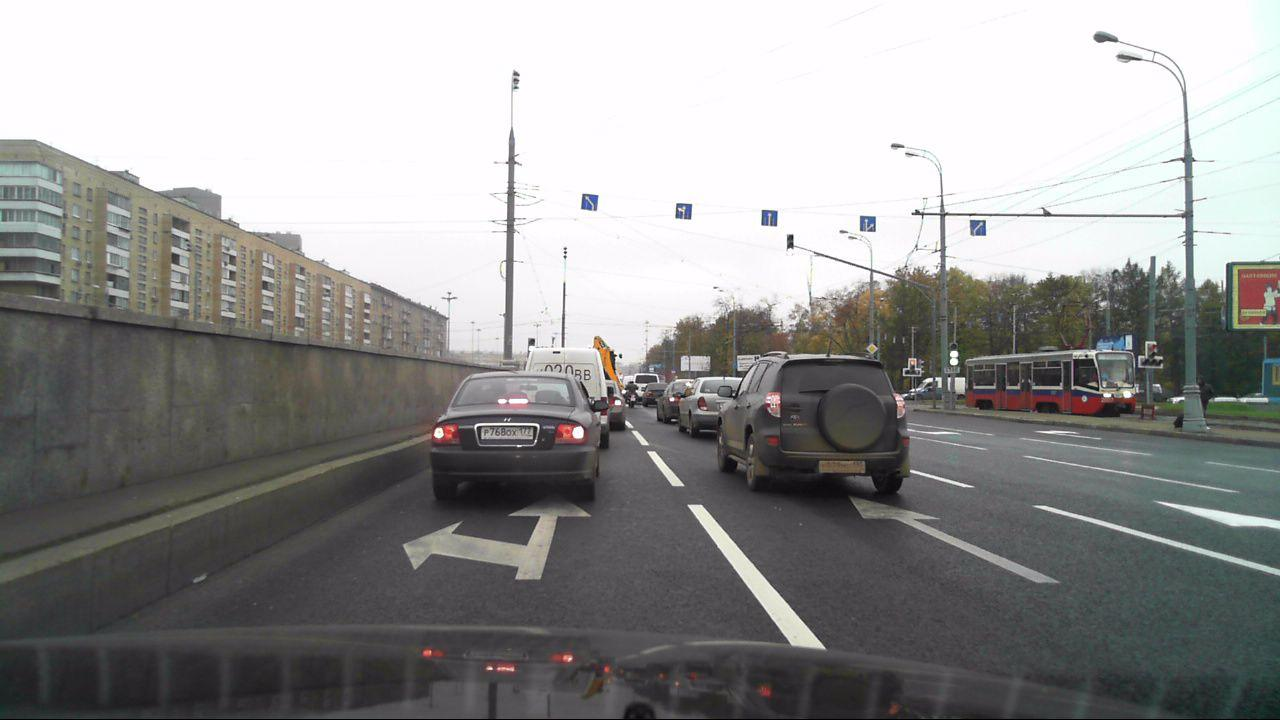2_1: (865, 344, 878, 356)
5_15_2: (761, 209, 781, 227), (675, 202, 692, 220), (860, 215, 876, 233), (582, 192, 598, 210), (969, 220, 985, 236)
6_16: (943, 366, 960, 373)
